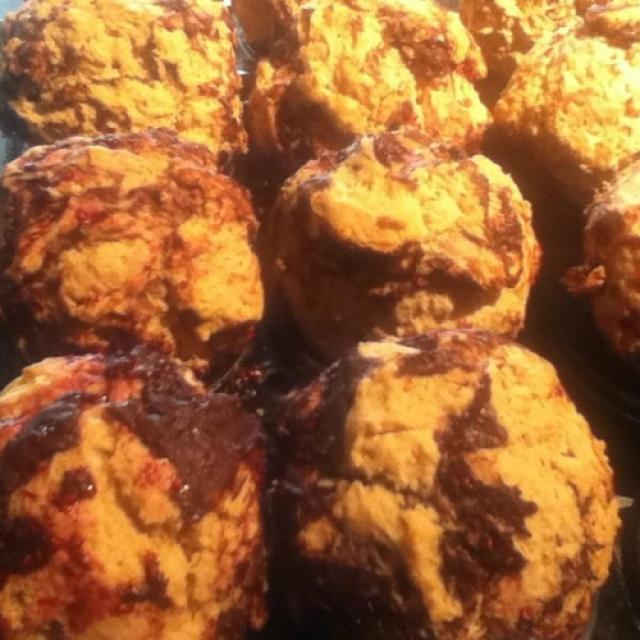炸货点心: (23, 8, 612, 626)
面包点心: (23, 8, 612, 626)
